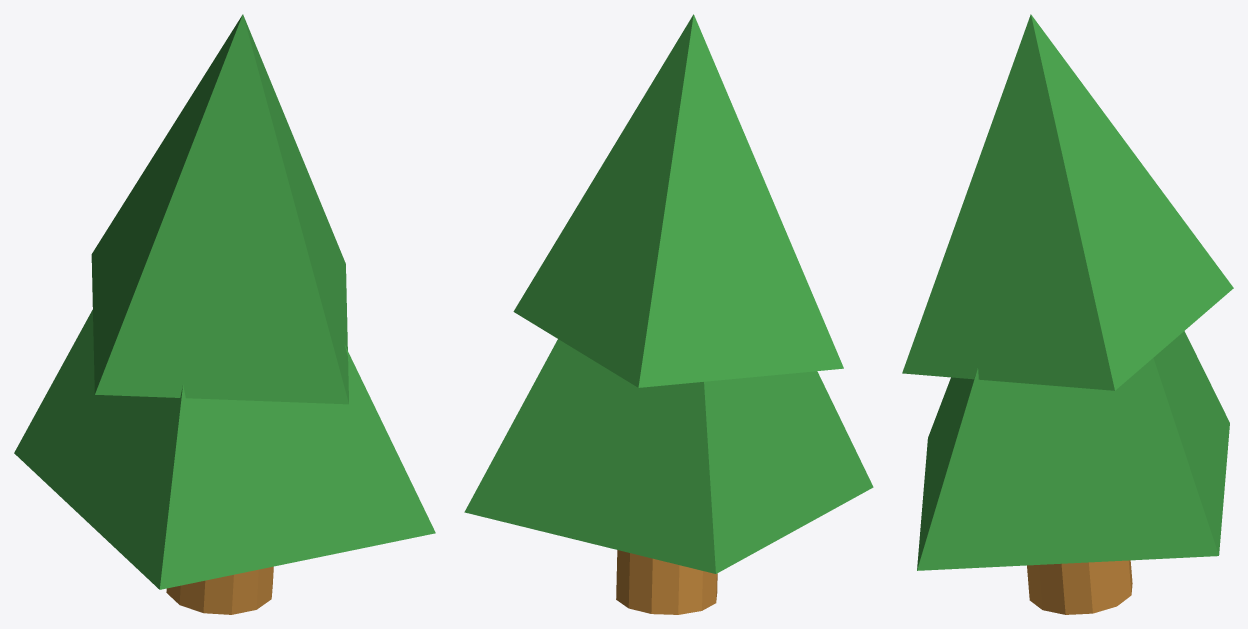
The model's file is tree_11_mesh546125134.glb.
3 views of the same model, side by side, from view 1: azimuth 30°, elevation 25°; view 2: azimuth 150°, elevation 25°; view 3: azimuth 270°, elevation 25° (orthographic). The views are drawn at different scales.
Visible parts, largest first — view 1: part_2_mesh546125134_1, part_1_mesh546125134; view 2: part_2_mesh546125134_1, part_1_mesh546125134; view 3: part_2_mesh546125134_1, part_1_mesh546125134.
Boxes of the visible parts, x1,y1,x2,y2 form: part_2_mesh546125134_1: (14,14,435,589); part_1_mesh546125134: (166,566,273,614); part_2_mesh546125134_1: (464,14,873,573); part_1_mesh546125134: (616,550,717,614); part_2_mesh546125134_1: (902,14,1233,570); part_1_mesh546125134: (1027,560,1132,614).
Bounding box in the file's own units: 0.1902 × 0.3631 × 0.1882.
